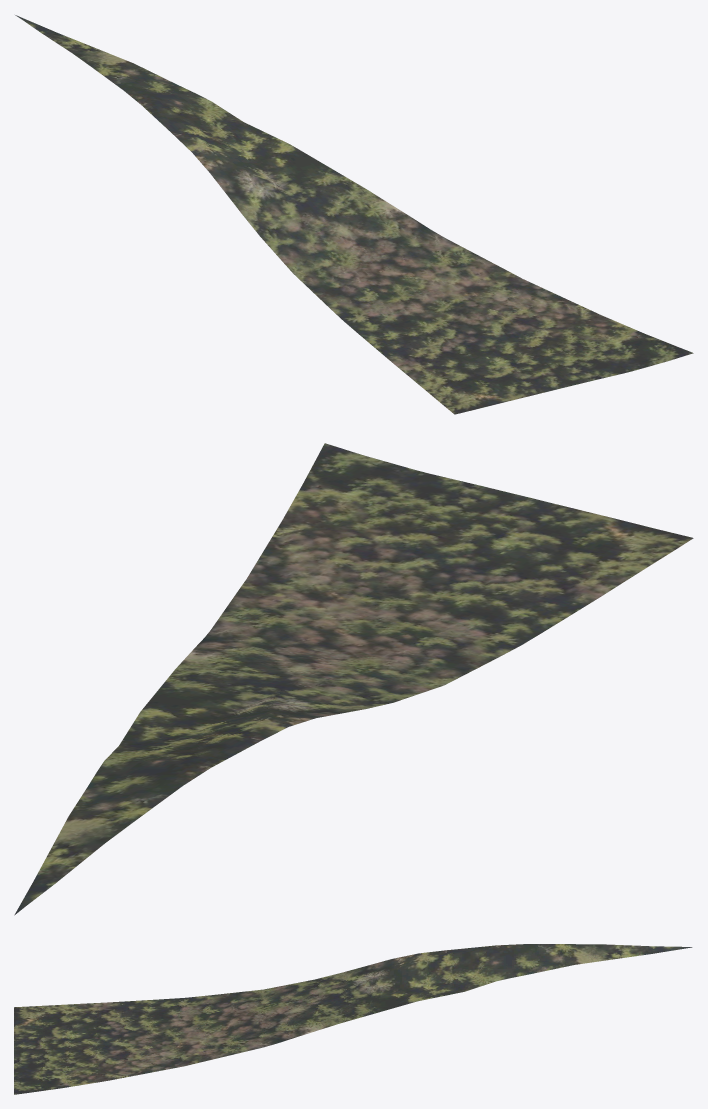
The model's file is CM_Terrain_24491278_6822046.fbx.
3 views of the same model, one above another, from view 1: azimuth 30°, elevation 25°; view 2: azimuth 150°, elevation 25°; view 3: azimuth 270°, elevation 25° (orthographic). The views are drawn at different scales.
Parts seen in each view (by area): view 1: CM_Terrain_24491278_6822046_LOD0; view 2: CM_Terrain_24491278_6822046_LOD0; view 3: CM_Terrain_24491278_6822046_LOD0.
Part boxes in pixels (x1=…): CM_Terrain_24491278_6822046_LOD0: x1=15, y1=15, x2=693, y2=414; CM_Terrain_24491278_6822046_LOD0: x1=14, y1=443, x2=693, y2=915; CM_Terrain_24491278_6822046_LOD0: x1=14, y1=944, x2=692, y2=1094.
Size of what is drawn, in the model's own units: 41.09 by 13.43 by 131.
